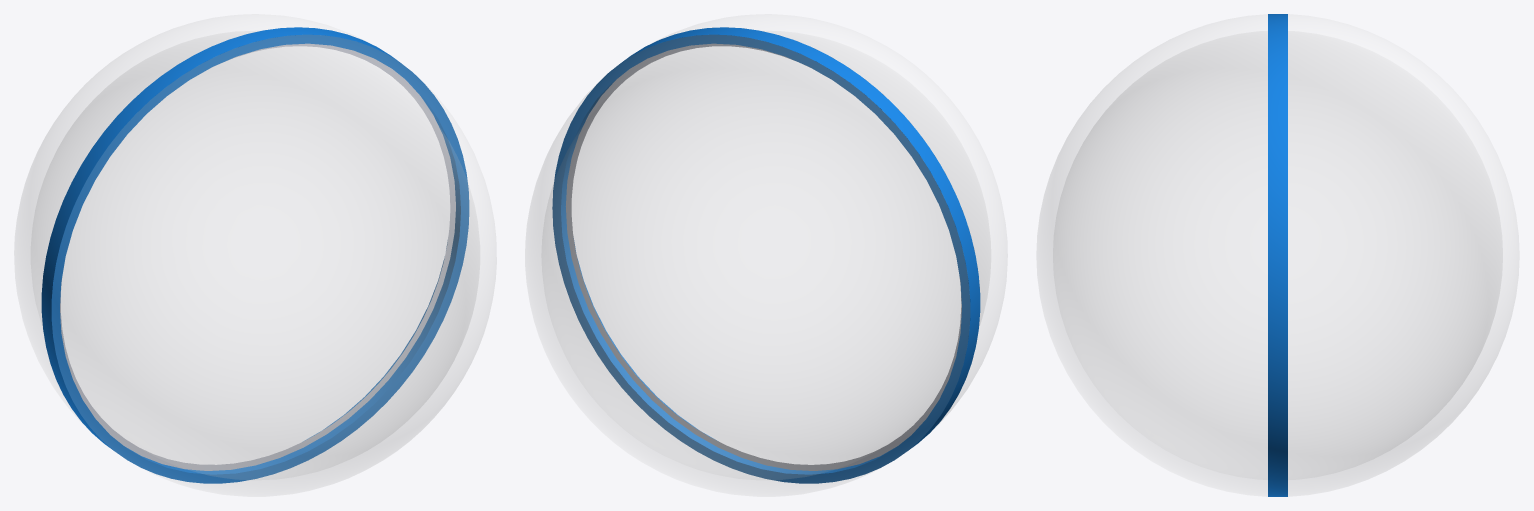
The model's file is spheroboltplus_shell.glb.
3 views of the same model, side by side, from view 1: azimuth 30°, elevation 25°; view 2: azimuth 150°, elevation 25°; view 3: azimuth 270°, elevation 25° (orthographic).
Visible parts, largest first — view 1: SPHEROBOLTPLUS_SHELL-2, SPHEROBOLTPLUS_SHELL-1, SPHEROBOLTPLUS_SHELL_RING-1; view 2: SPHEROBOLTPLUS_SHELL-1, SPHEROBOLTPLUS_SHELL-2, SPHEROBOLTPLUS_SHELL_RING-1; view 3: SPHEROBOLTPLUS_SHELL-1, SPHEROBOLTPLUS_SHELL-2, SPHEROBOLTPLUS_SHELL_RING-1.
Boxes of the visible parts, <box> form: SPHEROBOLTPLUS_SHELL-2: <box>52,35,496,496</box>; SPHEROBOLTPLUS_SHELL-1: <box>14,14,455,470</box>; SPHEROBOLTPLUS_SHELL_RING-1: <box>41,27,469,483</box>; SPHEROBOLTPLUS_SHELL-1: <box>525,35,969,496</box>; SPHEROBOLTPLUS_SHELL-2: <box>566,14,1007,470</box>; SPHEROBOLTPLUS_SHELL_RING-1: <box>552,27,980,483</box>; SPHEROBOLTPLUS_SHELL-1: <box>1288,14,1518,496</box>; SPHEROBOLTPLUS_SHELL-2: <box>1037,14,1267,496</box>; SPHEROBOLTPLUS_SHELL_RING-1: <box>1268,14,1287,496</box>.
Bounding box in the file's own units: 0.0729 × 0.0729 × 0.073.
